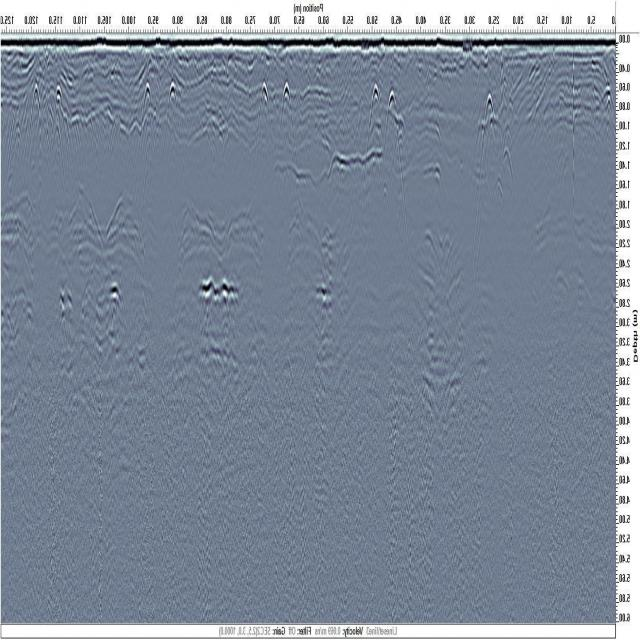hyperbola: (383, 84, 402, 148), (277, 77, 297, 131), (164, 74, 182, 132), (481, 86, 499, 144), (136, 73, 157, 122), (256, 75, 275, 126), (27, 77, 46, 126), (51, 75, 66, 132)
